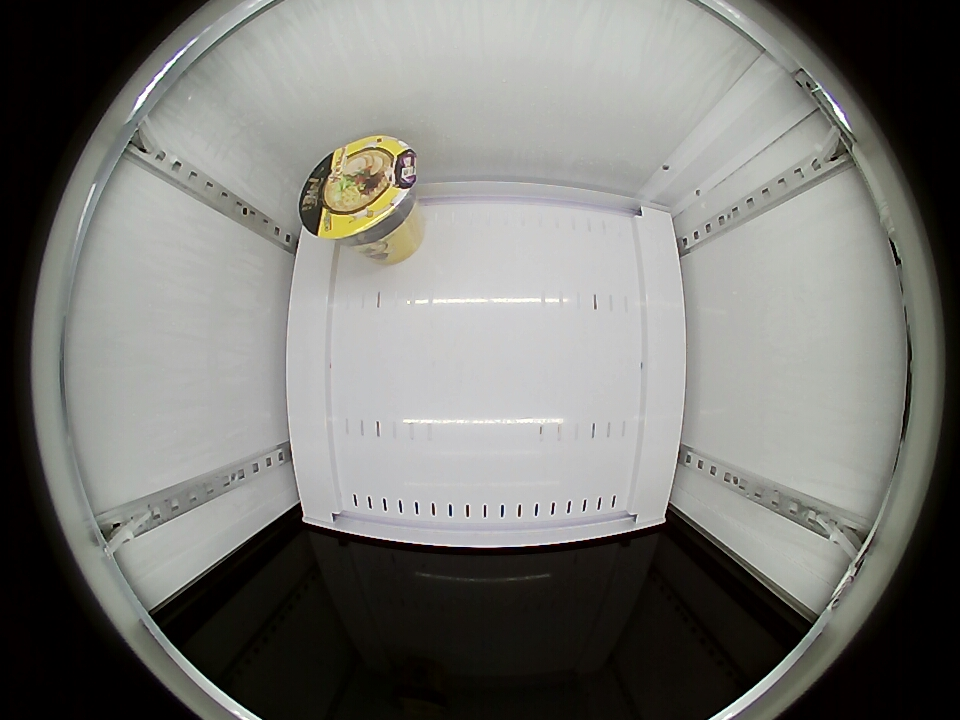tangdaren2: (299, 135, 419, 248)
